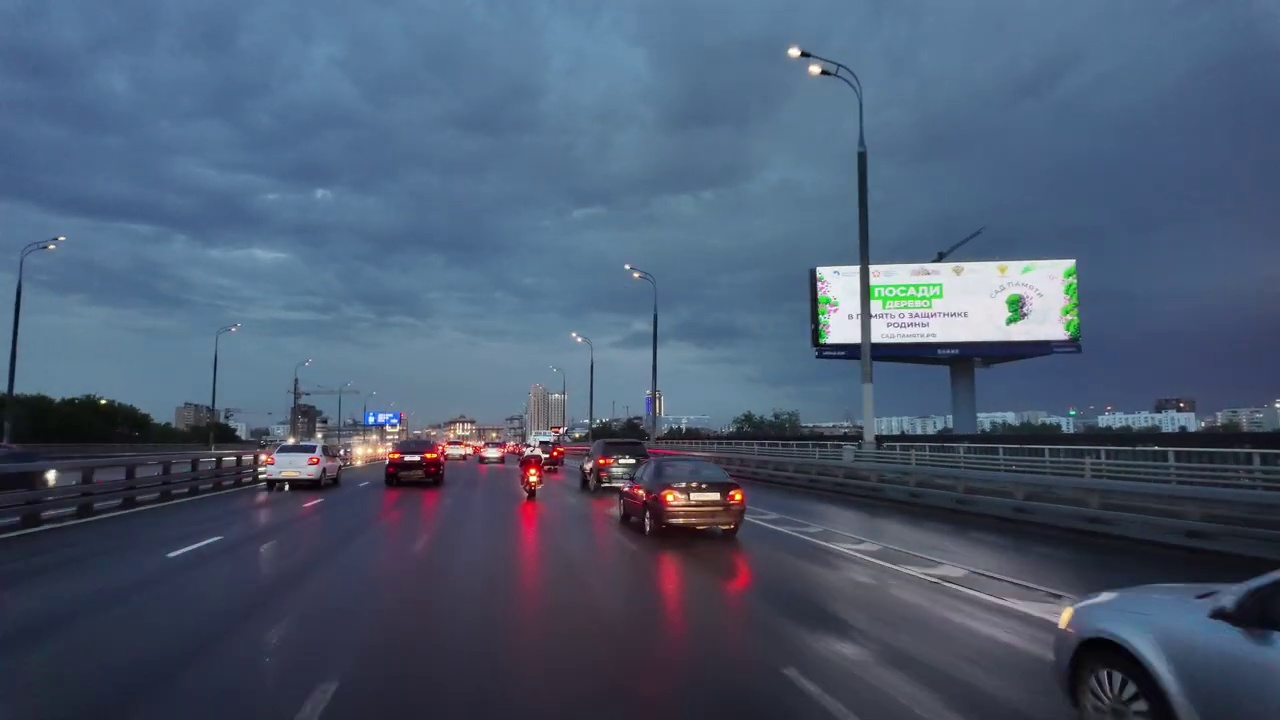acesa: (784, 43, 824, 81)
apagada: (39, 231, 67, 256), (623, 262, 646, 285), (222, 320, 241, 340)
